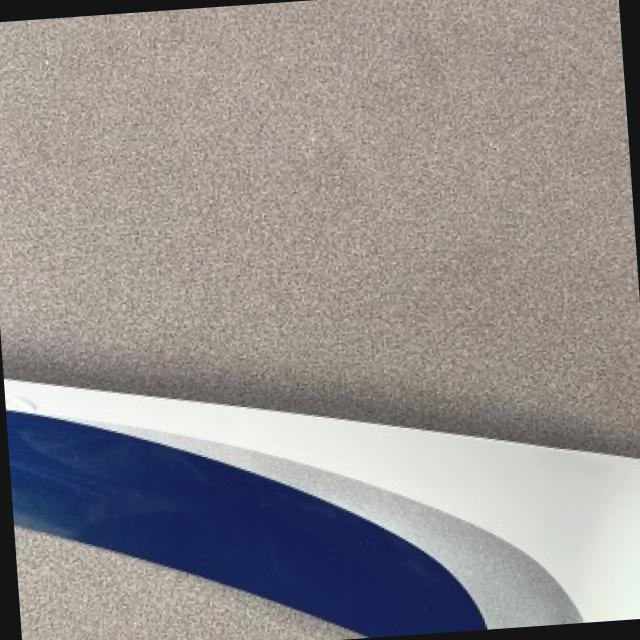healthy: (5, 378, 640, 632), (16, 527, 355, 640)
